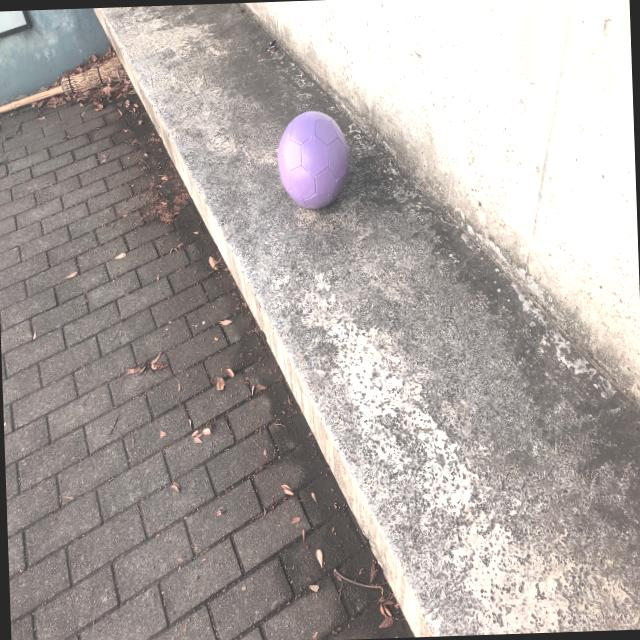purple_ball: (276, 107, 350, 208)
